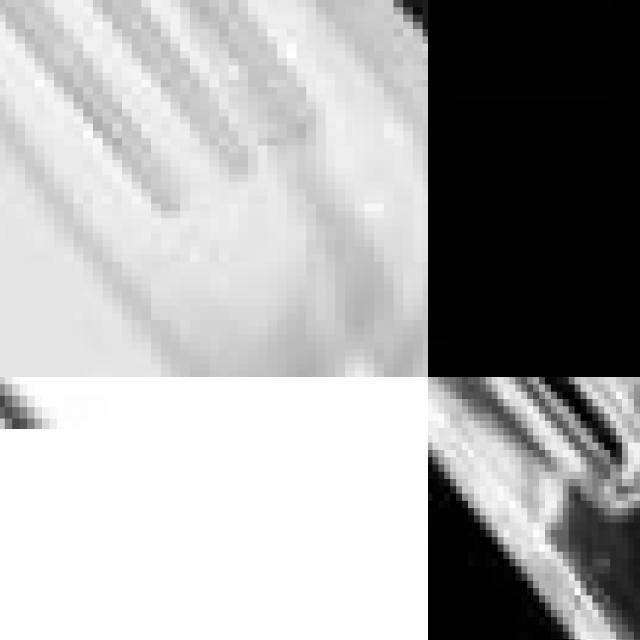forks: (0, 0, 428, 377), (428, 377, 640, 640)
